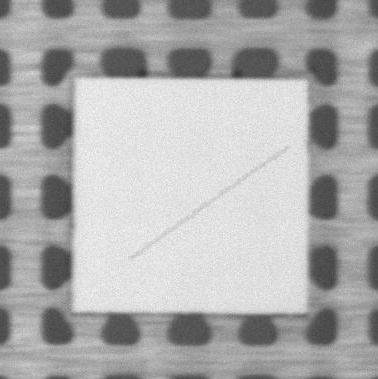DIE_CRACK: (131, 147, 287, 259)
